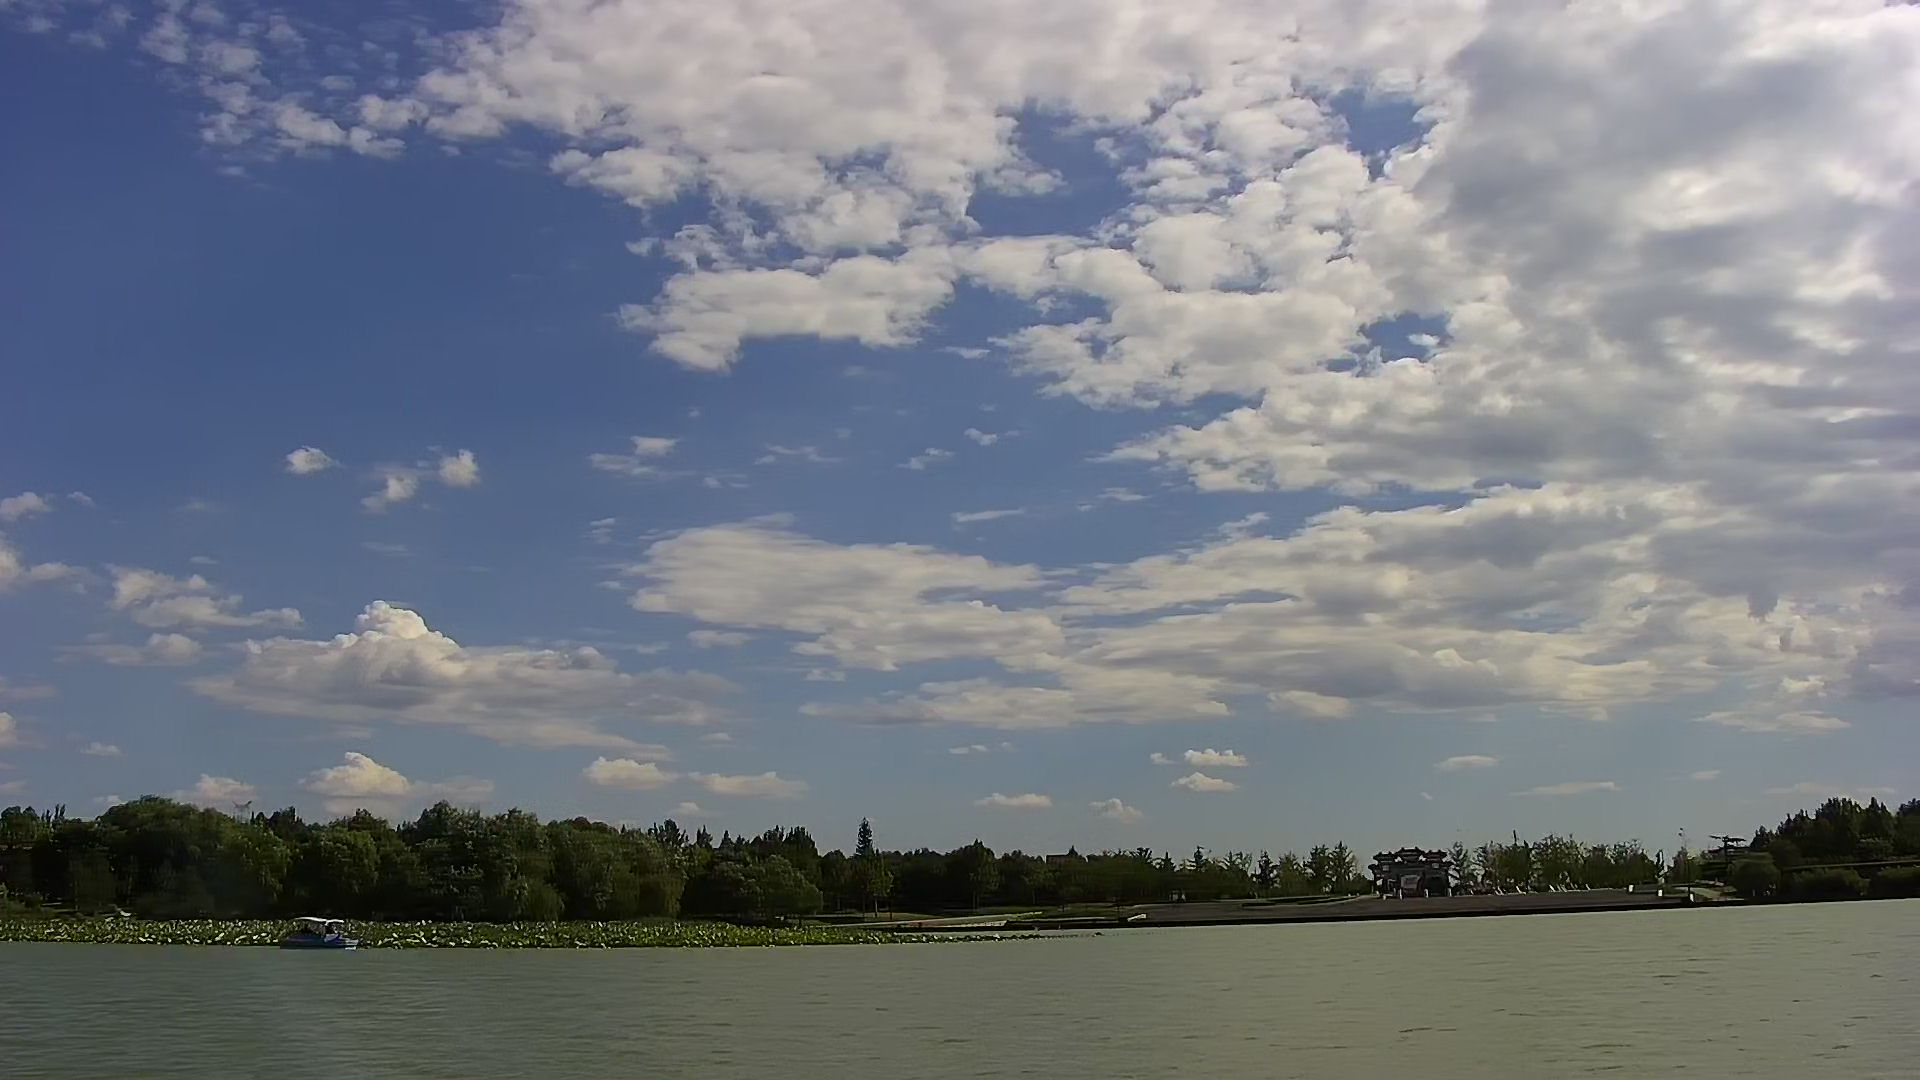boat: (276, 913, 361, 957)
harbor: (1076, 878, 1746, 919)
